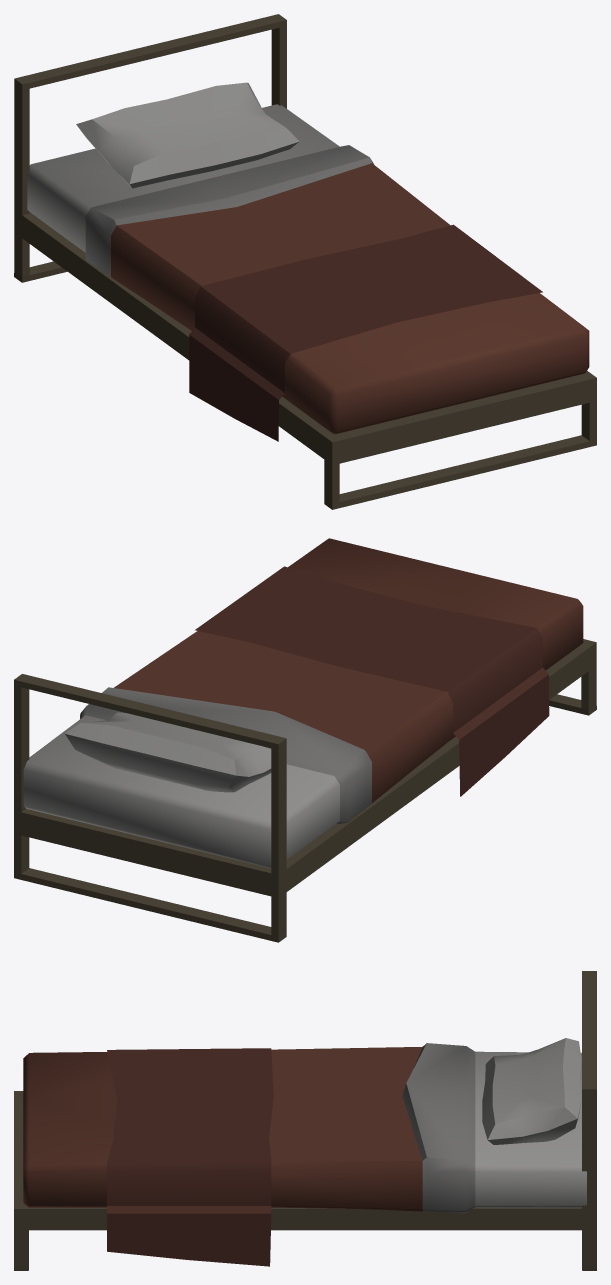
The model's file is bed_single.glb.
The picture shows the model from 3 angles, top to bottom: view 1: azimuth 30°, elevation 25°; view 2: azimuth 150°, elevation 25°; view 3: azimuth 270°, elevation 25°; orthographic projection. The views are drawn at different scales.
Visible parts, largest first — view 1: bed_single; view 2: bed_single; view 3: bed_single.
Part boxes in pixels (left/top/right/bottom): bed_single: left=14, top=14, right=596, bottom=509; bed_single: left=14, top=538, right=596, bottom=942; bed_single: left=14, top=971, right=596, bottom=1270.
Bounding box in the file's own units: 1 × 0.6876 × 2.
